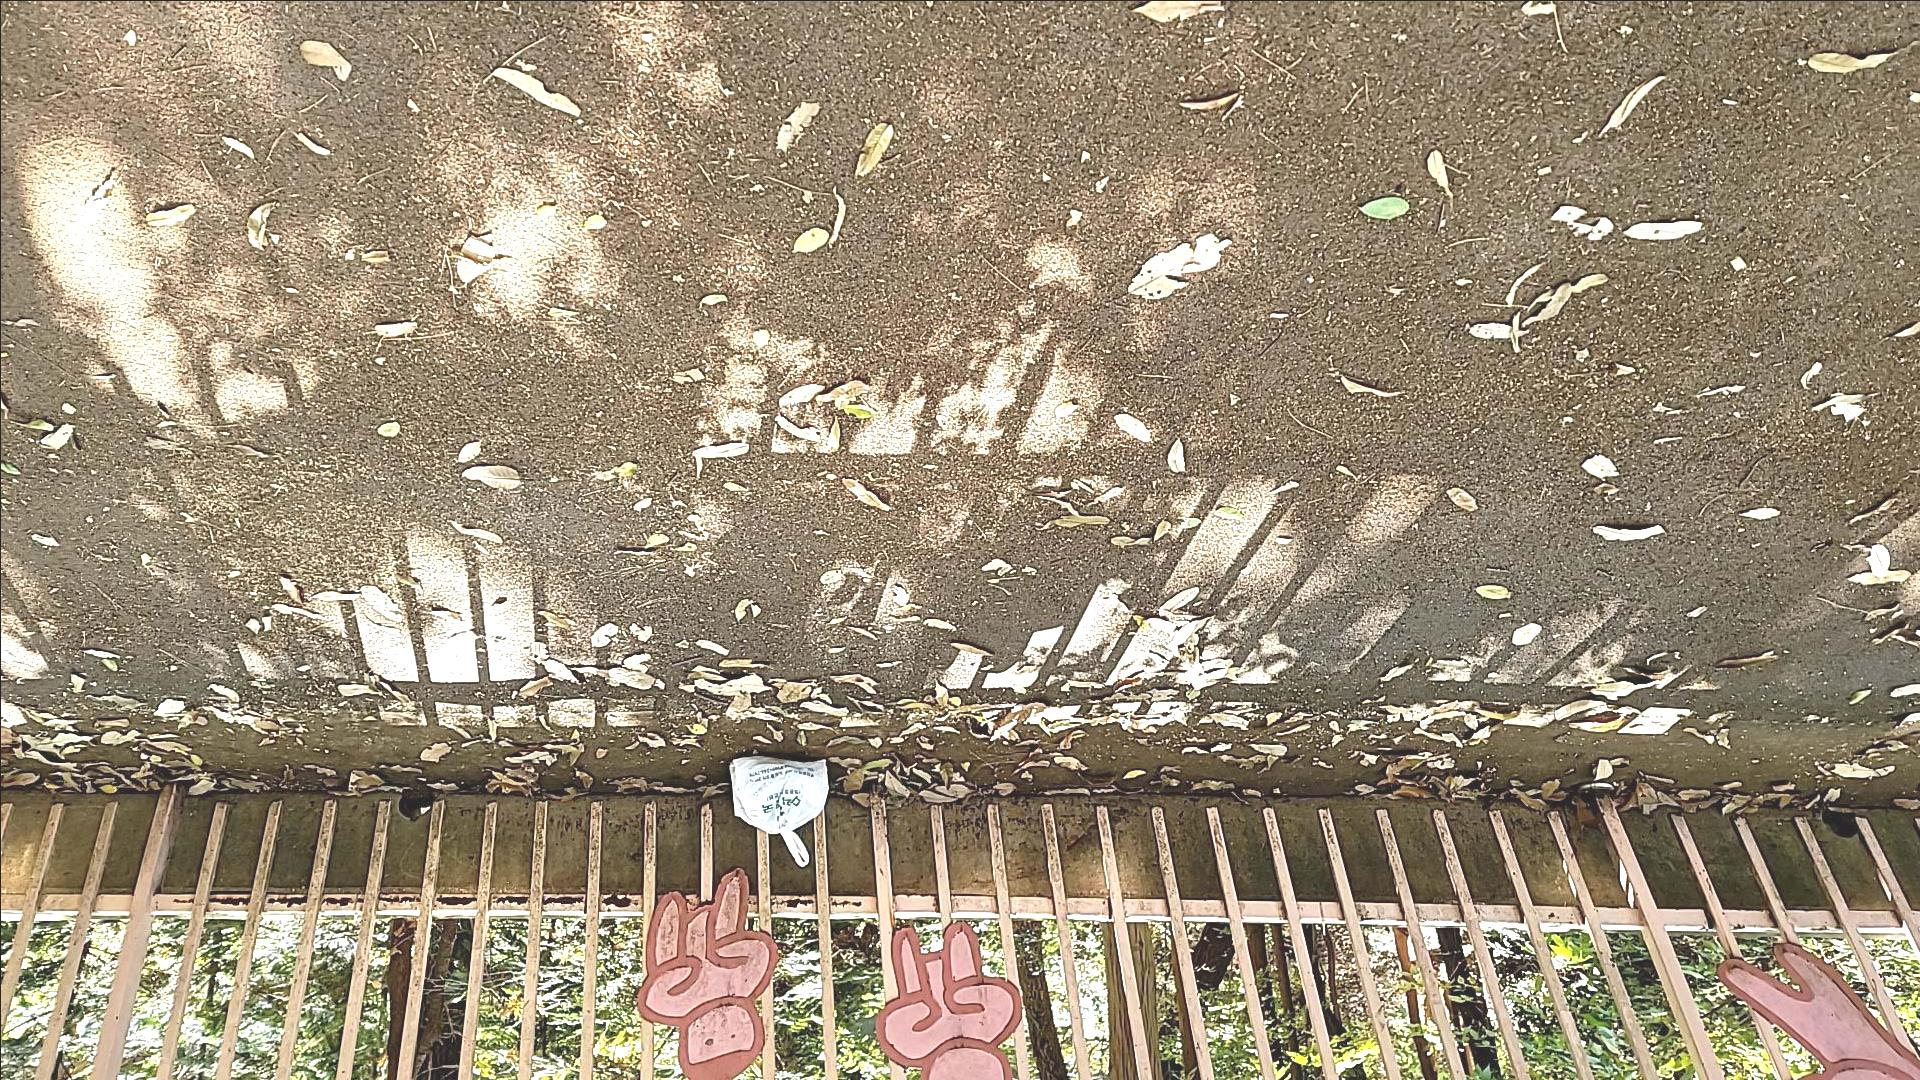white_bag: (717, 744, 849, 873)
